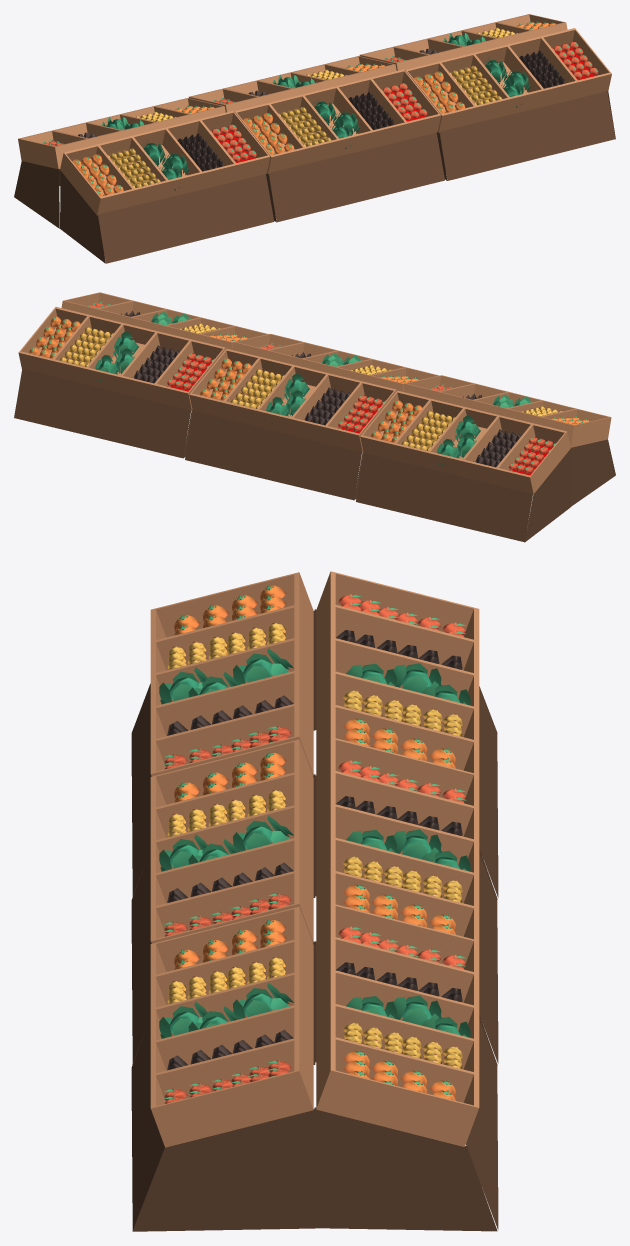
The model's file is ZonaFrutas5x2.fbx.
3 views of the same model, one above another, from view 1: azimuth 30°, elevation 25°; view 2: azimuth 150°, elevation 25°; view 3: azimuth 270°, elevation 25° (orthographic). The views are drawn at different scales.
Parts seen in each view (by area): view 1: EstanteFruta.001, EstanteFruta; view 2: EstanteFruta, EstanteFruta.001; view 3: EstanteFruta.001, EstanteFruta.
Part boxes in pixels (x1,y1,x2,y2): EstanteFruta.001: [60, 28, 615, 263]; EstanteFruta: [14, 14, 567, 228]; EstanteFruta: [14, 307, 570, 542]; EstanteFruta.001: [61, 292, 615, 506]; EstanteFruta.001: [131, 572, 315, 1231]; EstanteFruta: [314, 571, 498, 1231].
Size of the model in its own units: 995 by 152 by 309.
2 materials, 2 textured.
